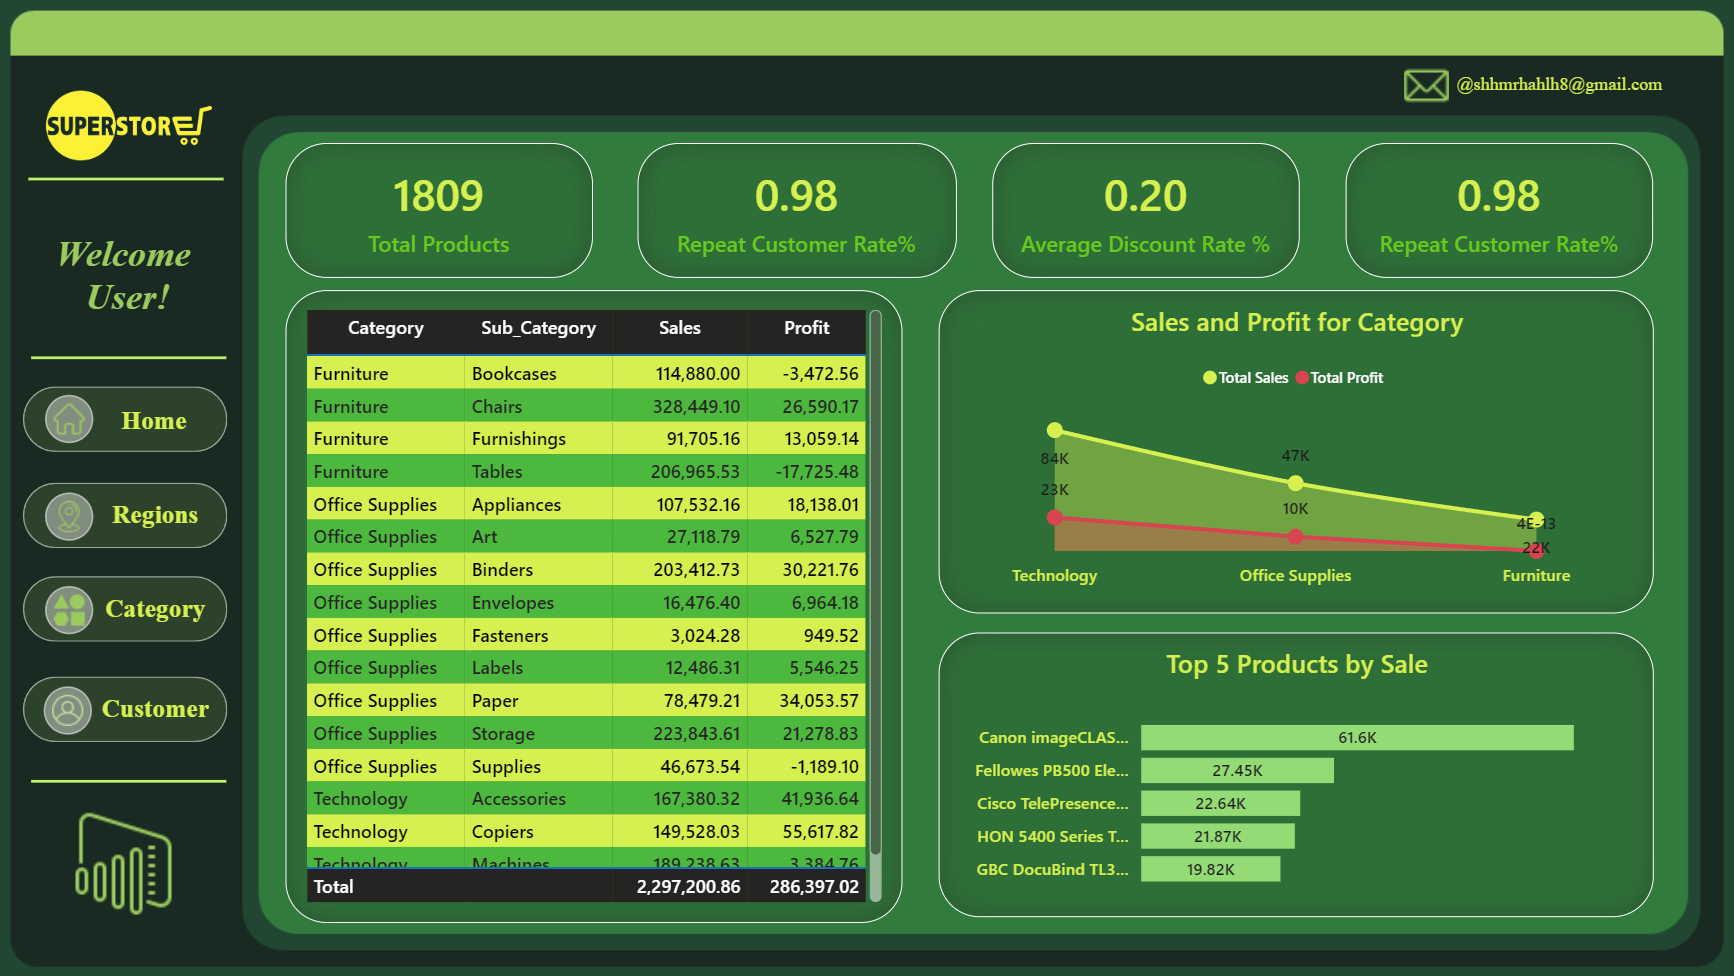

This screenshot's page, from the dashboard's own definition file:
{"tool":"powerbi","page":{"name":"Category","canvas":[1280,720],"ordinal":2},"visuals":[{"type":"shape","box":[24.8,107.6,143.1,46.8],"z":0},{"type":"shape","box":[27.6,549.3,143.1,46.8],"z":1000},{"type":"shape","box":[27.6,238.8,143.1,46.8],"z":2000},{"type":"image","box":[13.8,27.6,171.1,127],"z":3000},{"type":"textbox","box":[23.5,165.6,150,75.7],"z":4000},{"type":"shape","box":[21.6,283.7,150,48.2],"z":5000},{"type":"shape","box":[21.6,353.9,150,48.2],"z":6000},{"type":"shape","box":[21.6,422.7,150,48.2],"z":7000},{"type":"shape","box":[21.6,495.6,150,48.2],"z":8000},{"type":"card","fields":{"Values":["M_ta1.Average Discount Rate %"]},"box":[732.1,104.6,225.7,99.1],"z":9000},{"type":"card","fields":{"Values":["Count(Dim_Product.Product_Name)"]},"box":[213.3,104.6,225.7,99.1],"z":10000},{"type":"card","fields":{"Values":["M_ta1.Repeat Customer Rate%"]},"box":[472,104.6,234,99.1],"z":11000},{"type":"card","fields":{"Values":["M_ta1.Top Performing Category"]},"box":[990.9,104.6,225.7,99.1],"z":12000},{"type":"tableEx","title":"Total Sales & Profit through Years","fields":{"Values":["Dim_Product.Category","Dim_Product.Sub_Category","Sum(Fact_Sales.Sales)","Sum(Fact_Sales.Profit)"]},"box":[213.9,212.5,452.7,463.7],"z":13000},{"type":"barChart","title":"Top 5 Products by Sale","fields":{"Category":["Dim_Product.Product_Name"],"Y":["Sum(Fact_Sales.Sales)"]},"box":[692.8,463.7,524.4,208.4],"z":14000},{"type":"image","box":[37.4,284.1,35.8,45.4],"z":15000},{"type":"image","box":[37.4,355.6,35.8,45.4],"z":16000},{"type":"image","box":[37.4,424.4,35.8,45.4],"z":17000},{"type":"image","box":[36.8,498.4,35.8,45.4],"z":18000},{"type":"textbox","box":[72.6,291.9,89.5,33],"z":19000},{"type":"textbox","box":[73.9,362.1,89.5,33],"z":20000},{"type":"textbox","box":[73.9,430.9,89.5,33],"z":21000},{"type":"textbox","box":[73.9,503.9,89.5,33],"z":22000},{"type":"image","box":[1030.8,46.8,39.9,33],"z":23000},{"type":"textbox","box":[1060.8,46.2,174.8,33],"z":24000},{"type":"image","box":[26.2,590.7,139,85.3],"z":25000},{"type":"areaChart","title":"Sales and Profit for Category","fields":{"Category":["Dim_Product.Category"],"Y":["Sum(Fact_Sales.Sales)","Sum(Fact_Sales.Profit)"]},"box":[692.8,212.5,524.4,237.4],"z":26000}]}

Visuals, with their boxes in screenshot pixels (x1, y1, x2, y2), scaled from the page's 1280x720 canvas onto the 1734x976 screenshot:
shape: box=[34, 146, 227, 209]
shape: box=[37, 745, 231, 808]
shape: box=[37, 324, 231, 387]
image: box=[19, 37, 250, 210]
textbox: box=[32, 224, 235, 327]
shape: box=[29, 385, 232, 450]
shape: box=[29, 480, 232, 545]
shape: box=[29, 573, 232, 638]
shape: box=[29, 672, 232, 737]
card - M_ta1.Average Discount Rate %: box=[992, 142, 1298, 276]
card - Count(Dim_Product.Product_Name): box=[289, 142, 595, 276]
card - M_ta1.Repeat Customer Rate%: box=[639, 142, 956, 276]
card - M_ta1.Top Performing Category: box=[1342, 142, 1648, 276]
"Total Sales & Profit through Years" tableEx: box=[290, 288, 903, 917]
"Top 5 Products by Sale" barChart: box=[939, 629, 1649, 911]
image: box=[51, 385, 99, 447]
image: box=[51, 482, 99, 544]
image: box=[51, 575, 99, 637]
image: box=[50, 676, 98, 737]
textbox: box=[98, 396, 220, 440]
textbox: box=[100, 491, 221, 536]
textbox: box=[100, 584, 221, 629]
textbox: box=[100, 683, 221, 728]
image: box=[1396, 63, 1450, 108]
textbox: box=[1437, 63, 1674, 107]
image: box=[35, 801, 224, 916]
"Sales and Profit for Category" areaChart: box=[939, 288, 1649, 610]
